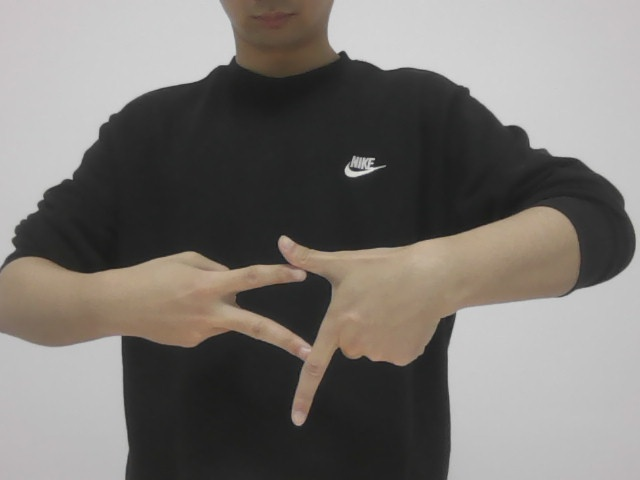introduce: (137, 222, 437, 416)
